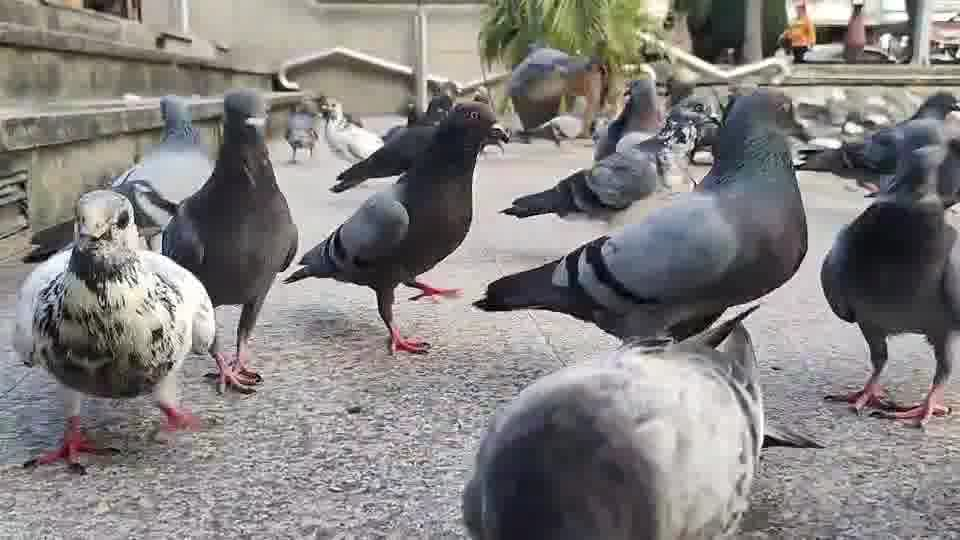Pigeon: (471, 86, 811, 350), (461, 304, 824, 539), (12, 188, 218, 473), (280, 99, 509, 355), (158, 86, 299, 393), (818, 126, 959, 427), (497, 129, 673, 220), (590, 76, 663, 161), (319, 99, 384, 164), (282, 108, 319, 163)
